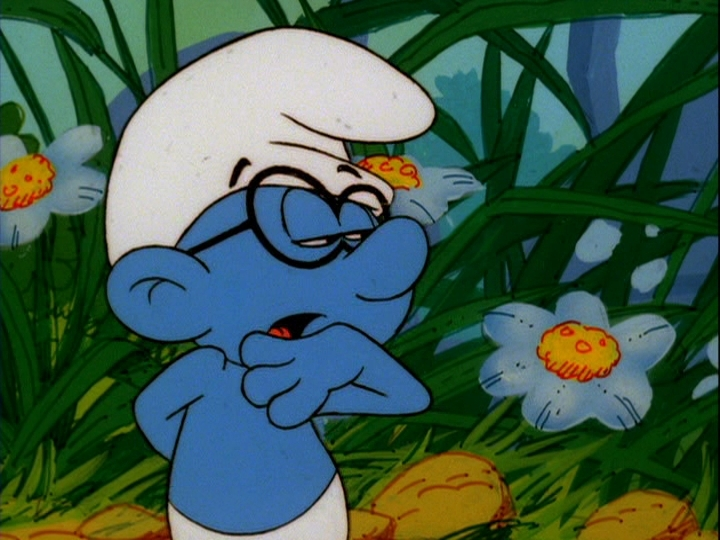smurf: (93, 18, 439, 537)
